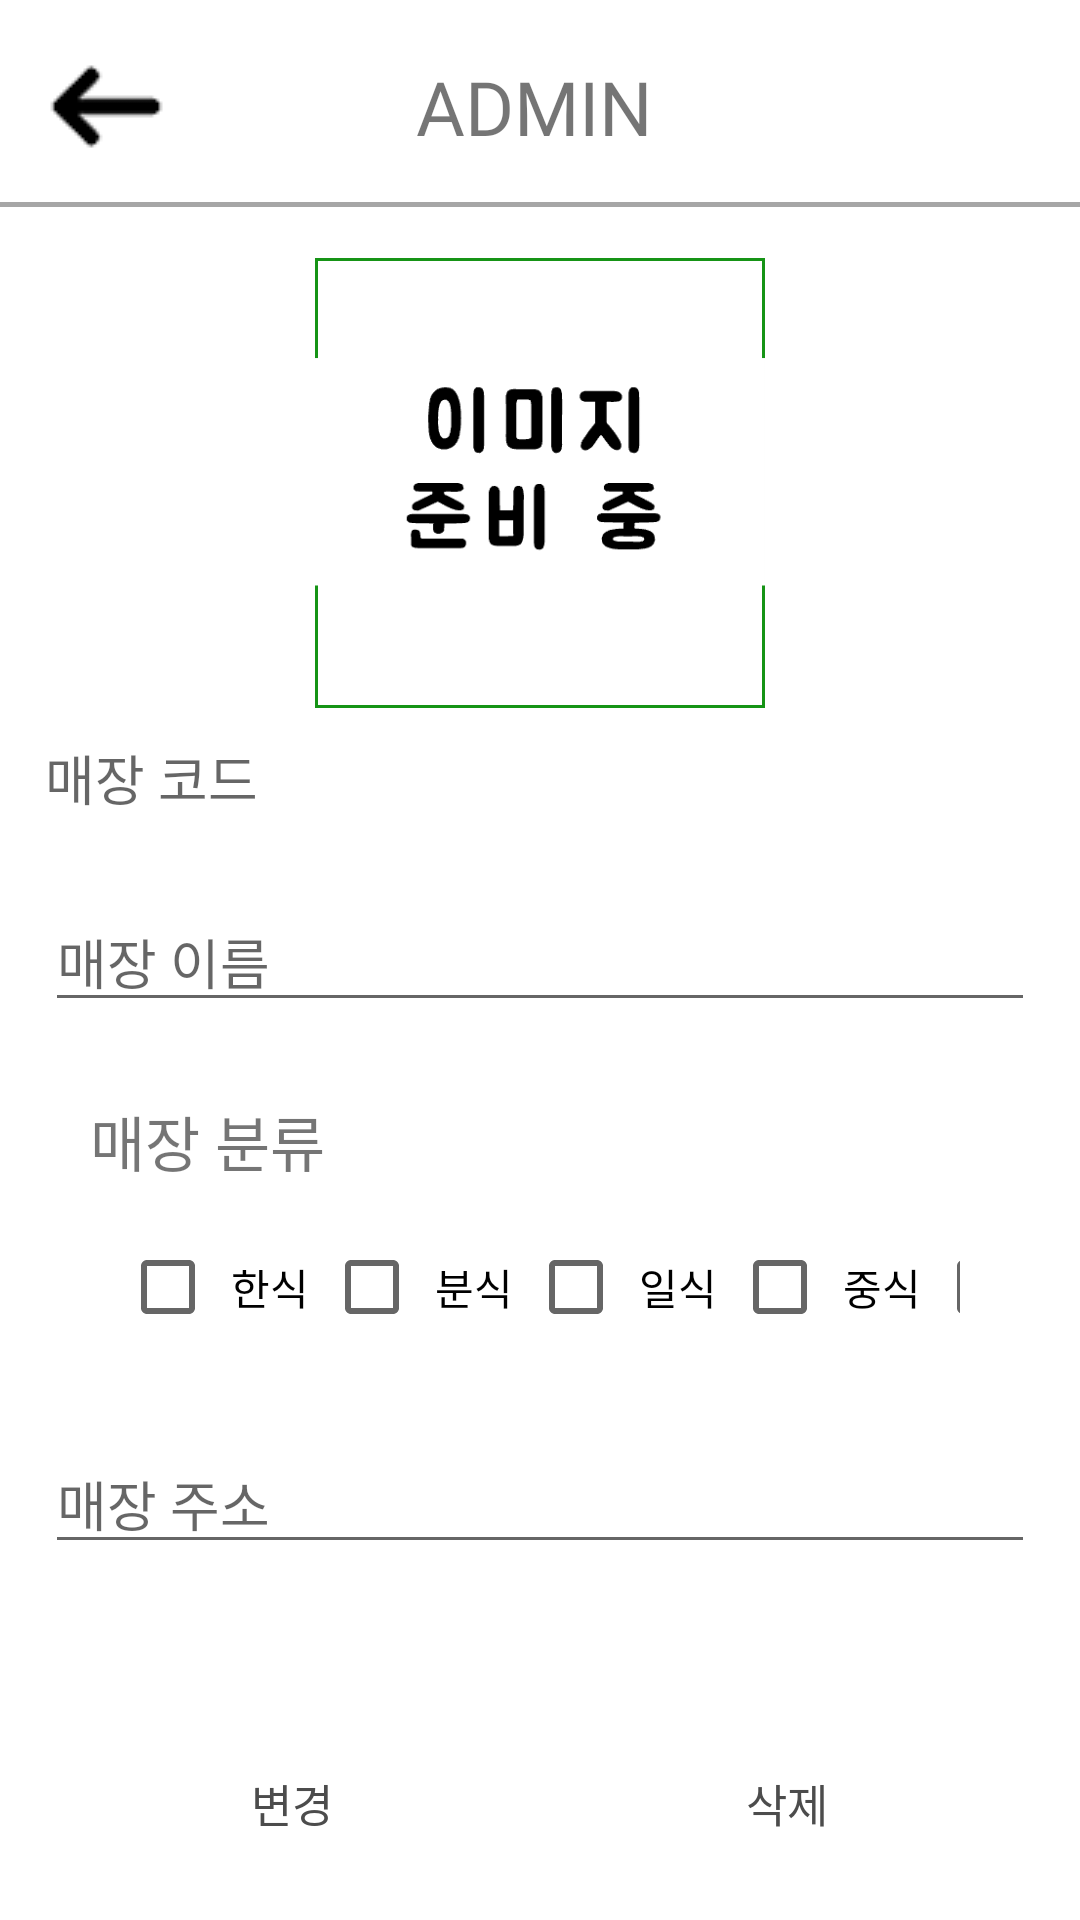

Screen size 1080w x 1920h. Icon name, then its box in pixels as (x1, y1, x2, y2):
back: (51, 65, 162, 148)
